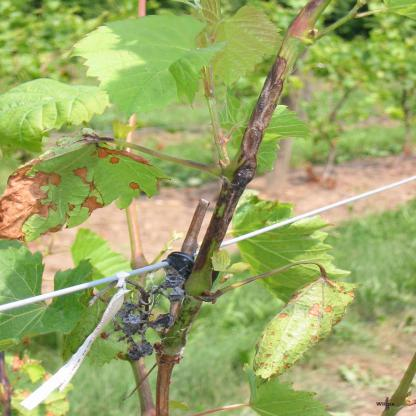grape leaf black rot: (0, 125, 176, 248), (254, 255, 362, 398)
